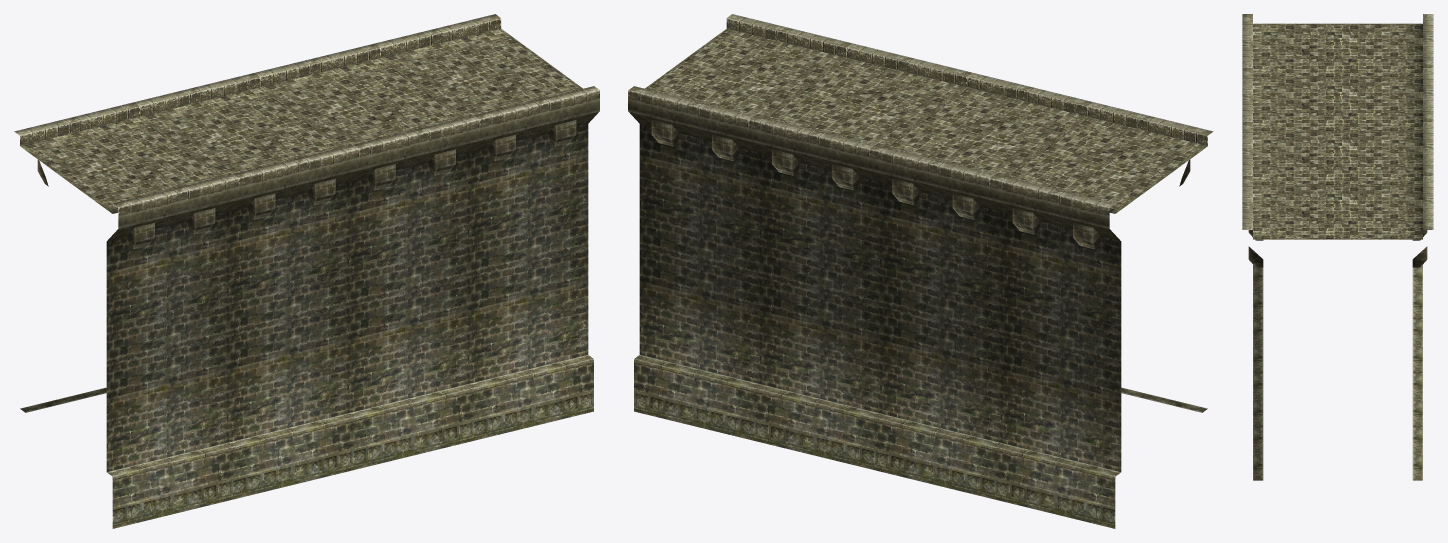
Rendered from OZ_30_kn_castle01A.glb.
3 renders of one model, left to right at view 1: azimuth 30°, elevation 25°; view 2: azimuth 150°, elevation 25°; view 3: azimuth 270°, elevation 25°, orthographic. The views are drawn at different scales.
Visible parts, largest first — view 1: OM_30_kn_castle01A; view 2: OM_30_kn_castle01A; view 3: OM_30_kn_castle01A.
Boxes of the visible parts, x1=… form: OM_30_kn_castle01A: x1=14, y1=14, x2=599, y2=528; OM_30_kn_castle01A: x1=628, y1=14, x2=1213, y2=528; OM_30_kn_castle01A: x1=1242, y1=14, x2=1433, y2=480.
Bounding box in the file's own units: 24 × 15.5 × 9.
2 materials, 2 textured.
